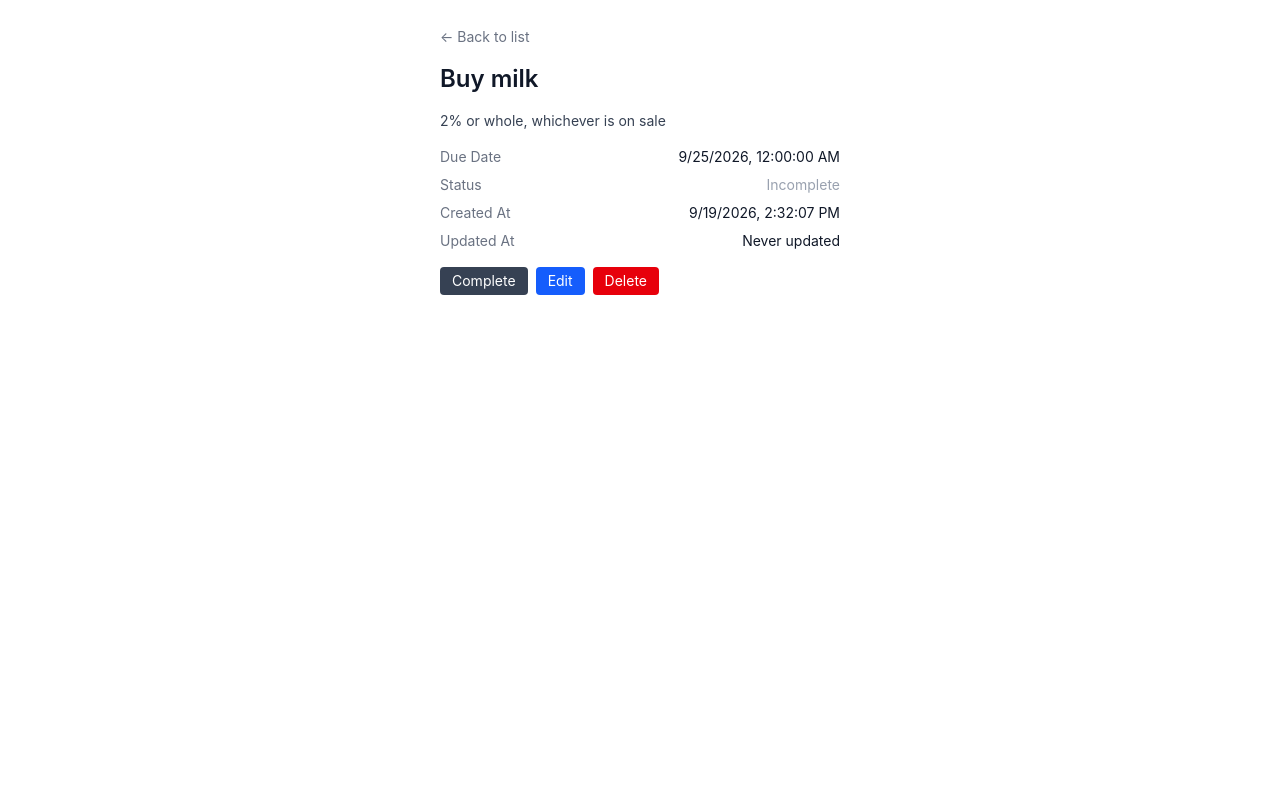
Test case: TodoDetailRoute › shows the confirmation dialog when Delete is clicked, without submitting
Check: the heading "Buy milk" is shown, box x1=440 y1=64 x2=538 y2=93
Click the button "Delete" at (626, 281), box x1=593 y1=267 x2=659 y2=295
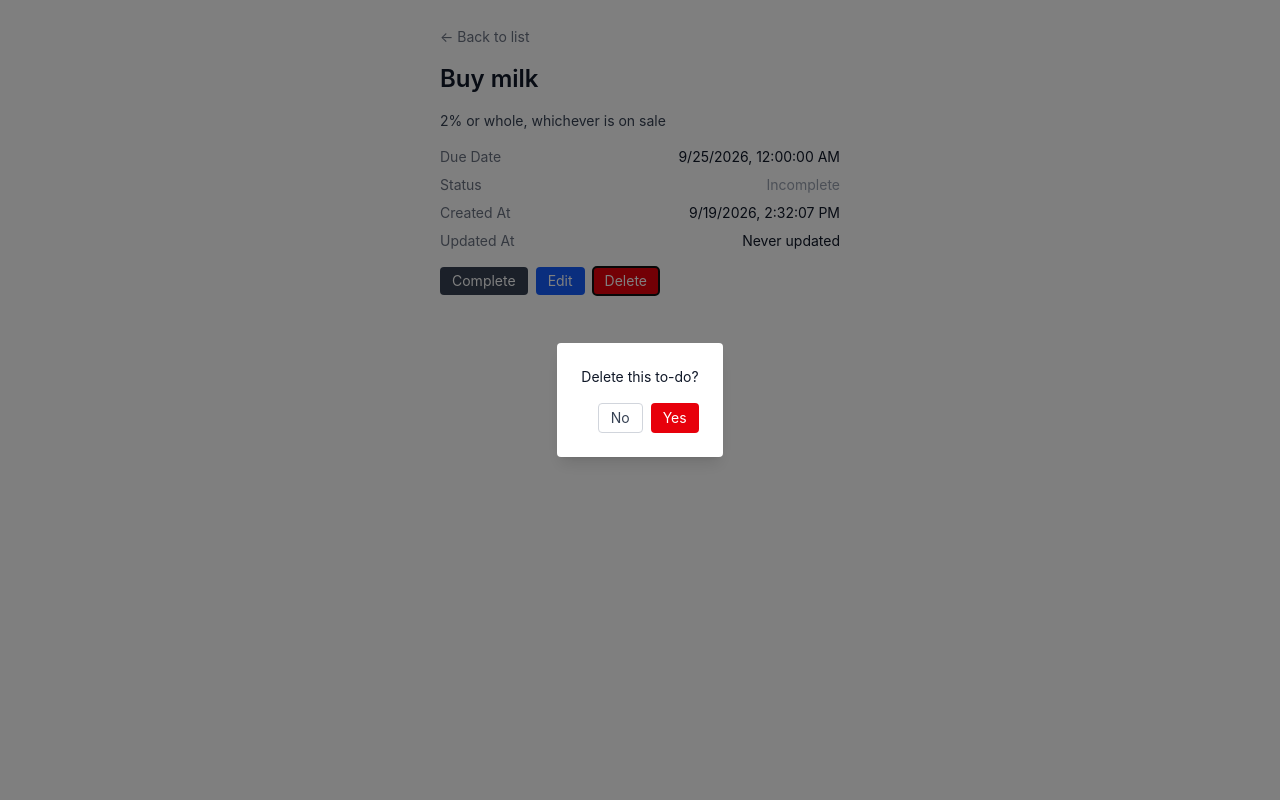
Check: the heading "Buy milk" is shown, box x1=440 y1=64 x2=538 y2=93
Check: the text "Delete this to-do?" is shown, box x1=581 y1=367 x2=699 y2=387
